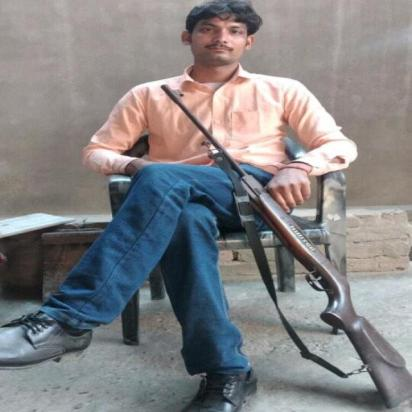Gun: (157, 80, 411, 412)
